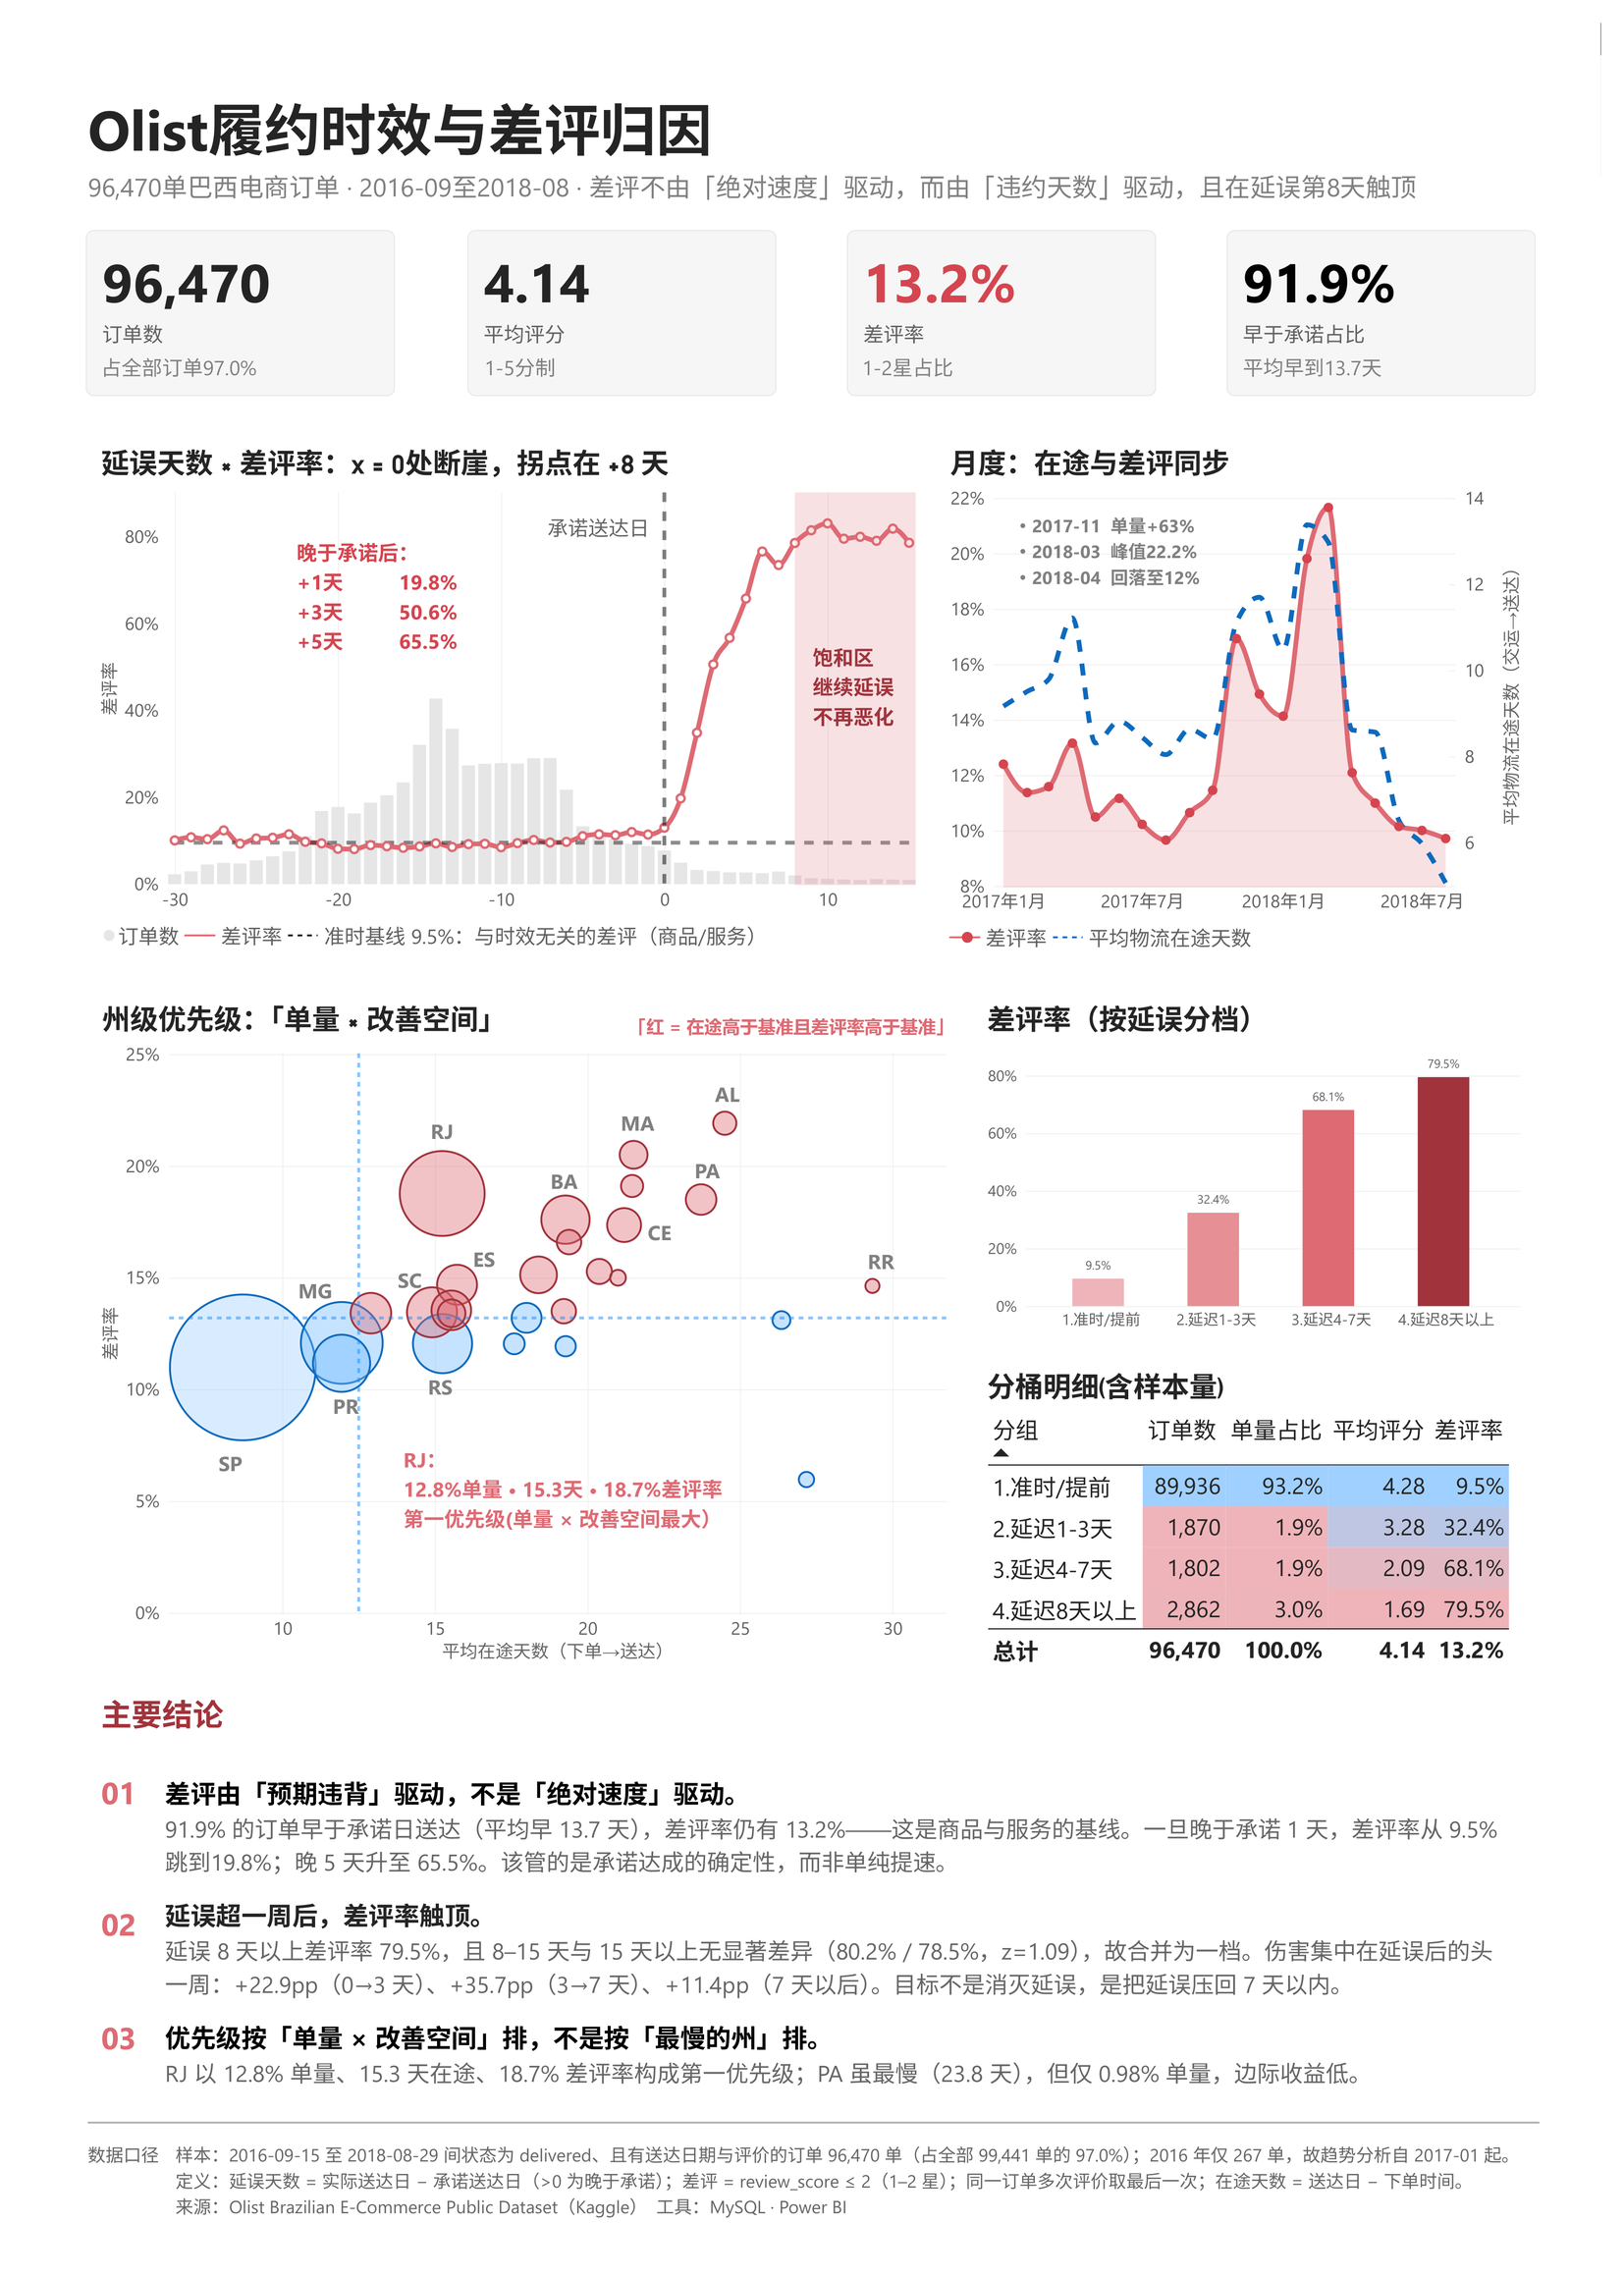

The dashboard page shown, as its layout file describes it:
{"tool":"powerbi","page":{"name":"第 1 页","canvas":[1654,2338],"ordinal":0},"visuals":[{"type":"clusteredColumnChart","title":"差评率（按延误分档）","fields":{"Category":["v_bi_dashboard_data.delay_group"],"Y":["v_bi_dashboard_data.差评率"]},"box":[995,1006.7,591.7,385],"z":0},{"type":"cardVisual","fields":{"Data":["v_bi_dashboard_data.订单数"]},"box":[66,217,324.3,174.3],"z":1000},{"type":"lineClusteredColumnComboChart","title":"延误天数 × 差评率：x = 0处断崖，拐点在 +8 天","fields":{"Category":["v_bi_dashboard_data.delay_days"],"Y":["v_bi_dashboard_data.订单数"],"Y2":["v_bi_dashboard_data.差评率","v_bi_dashboard_data.基线差评率"]},"box":[66,424,890,566],"z":2000},{"type":"scatterChart","title":"州级优先级：「单量 × 改善空间」","fields":{"Category":["v_bi_dashboard_data.customer_state"],"Size":["v_bi_dashboard_data.订单数"],"X":["v_bi_dashboard_data.平均在途天数"],"Y":["v_bi_dashboard_data.差评率"]},"box":[66.7,1006.7,928.3,726.7],"z":3000},{"type":"tableEx","title":"分桶明细(含样本量)","fields":{"Values":["v_bi_dashboard_data.delay_group","v_bi_dashboard_data.订单数","v_bi_dashboard_data.单量占比","v_bi_dashboard_data.平均评分","v_bi_dashboard_data.差评率"]},"box":[995,1391.7,591.7,356.7],"z":4000},{"type":"textbox","box":[828,648,104.3,150],"z":5000},{"type":"textbox","box":[68,66,1518,144],"z":6000},{"type":"cardVisual","fields":{"Data":["v_bi_dashboard_data.平均评分"]},"box":[466.3,217,324.3,174.3],"z":7000},{"type":"cardVisual","fields":{"Data":["v_bi_dashboard_data.差评率"]},"box":[864,217,324.3,174.3],"z":8000},{"type":"cardVisual","fields":{"Data":["v_bi_dashboard_data.早于承诺占比"]},"box":[1261.7,217,324.3,174.3],"z":9000},{"type":"lineChart","title":"月度：在途与差评同步","fields":{"Category":["v_bi_dashboard_data.月初.Variation.日期层次结构.年","v_bi_dashboard_data.月初.Variation.日期层次结构.季度","v_bi_dashboard_data.月初.Variation.日期层次结构.月份","v_bi_dashboard_data.月初.Variation.日期层次结构.日"],"Y":["v_bi_dashboard_data.差评率"],"Y2":["v_bi_dashboard_data.平均物流在途天数"]},"box":[956,424,630,568],"z":10000},{"type":"textbox","box":[82,344,322,48],"z":11000},{"type":"textbox","box":[484,344,322,48],"z":12000},{"type":"textbox","box":[880,344.3,322,48],"z":13000},{"type":"textbox","box":[1278.6,344.3,322,48],"z":14000},{"type":"textbox","box":[1030,512,241.1,136.7],"z":15000},{"type":"textbox","box":[550,512,128,50],"z":16000},{"type":"textbox","box":[286.7,538.3,225,185],"z":17000},{"type":"textbox","box":[185,1495,65,41.7],"z":18000},{"type":"textbox","box":[406.7,1146.7,65,41.7],"z":19000},{"type":"textbox","box":[685,1188,65,41.7],"z":20000},{"type":"textbox","box":[706,1108,65,41.7],"z":21000},{"type":"textbox","box":[867,1283,65,41.7],"z":22000},{"type":"textbox","box":[612,1138,65,41.7],"z":23000},{"type":"textbox","box":[535,1199,65,41.7],"z":24000},{"type":"textbox","box":[634.6,1253.1,65,41.7],"z":25000},{"type":"textbox","box":[398.6,1488.6,401.4,98.6],"z":26000},{"type":"textbox","box":[149.3,1835.5,1405.2,333.7],"z":26001},{"type":"textbox","box":[82,1747.7,240,409.8],"z":26002},{"type":"textbox","box":[68,2220,1520,96],"z":26003},{"type":"shape","box":[68,2168,1522,66],"z":26004},{"type":"textbox","box":[635,1038.8,346.2,37.5],"z":26005},{"type":"textbox","box":[273.8,1313.8,65,41.7],"z":26006},{"type":"textbox","box":[306.2,1435,65,41.7],"z":26007},{"type":"textbox","box":[405,1415,65,41.7],"z":26008},{"type":"textbox","box":[372.5,1302.5,65,41.7],"z":26009},{"type":"textbox","box":[451.2,1281.2,65,41.7],"z":26010}]}

Visuals, with their boxes in screenshot pixels (x1, y1, x2, y2), scaled from the page's 1654x2338 canvas onto the 1624x2277 screenshot:
"差评率（按延误分档）" clusteredColumnChart: 977,981,1558,1355
cardVisual - v_bi_dashboard_data.订单数: 65,211,383,381
"延误天数 × 差评率：x = 0处断崖，拐点在 +8 天" lineClusteredColumnComboChart: 65,413,939,964
"州级优先级：「单量 × 改善空间」" scatterChart: 66,981,977,1688
"分桶明细(含样本量)" tableEx: 977,1355,1558,1703
textbox: 813,631,915,778
textbox: 67,64,1557,204
cardVisual - v_bi_dashboard_data.平均评分: 458,211,777,381
cardVisual - v_bi_dashboard_data.差评率: 848,211,1166,381
cardVisual - v_bi_dashboard_data.早于承诺占比: 1239,211,1557,381
"月度：在途与差评同步" lineChart: 939,413,1557,966
textbox: 81,335,397,382
textbox: 475,335,791,382
textbox: 864,336,1180,382
textbox: 1256,336,1572,382
textbox: 1011,499,1248,631
textbox: 540,499,666,547
textbox: 282,524,503,704
textbox: 182,1456,245,1496
textbox: 400,1116,463,1158
textbox: 673,1157,736,1198
textbox: 693,1079,757,1119
textbox: 851,1250,915,1290
textbox: 601,1109,665,1149
textbox: 525,1167,589,1209
textbox: 623,1220,687,1261
textbox: 392,1450,785,1545
textbox: 146,1788,1526,2113
textbox: 81,1702,316,2101
textbox: 67,2162,1559,2255
shape: 67,2111,1561,2176
textbox: 623,1011,963,1049
textbox: 269,1279,333,1320
textbox: 300,1397,364,1438
textbox: 398,1379,461,1419
textbox: 365,1269,430,1309
textbox: 443,1248,507,1288
